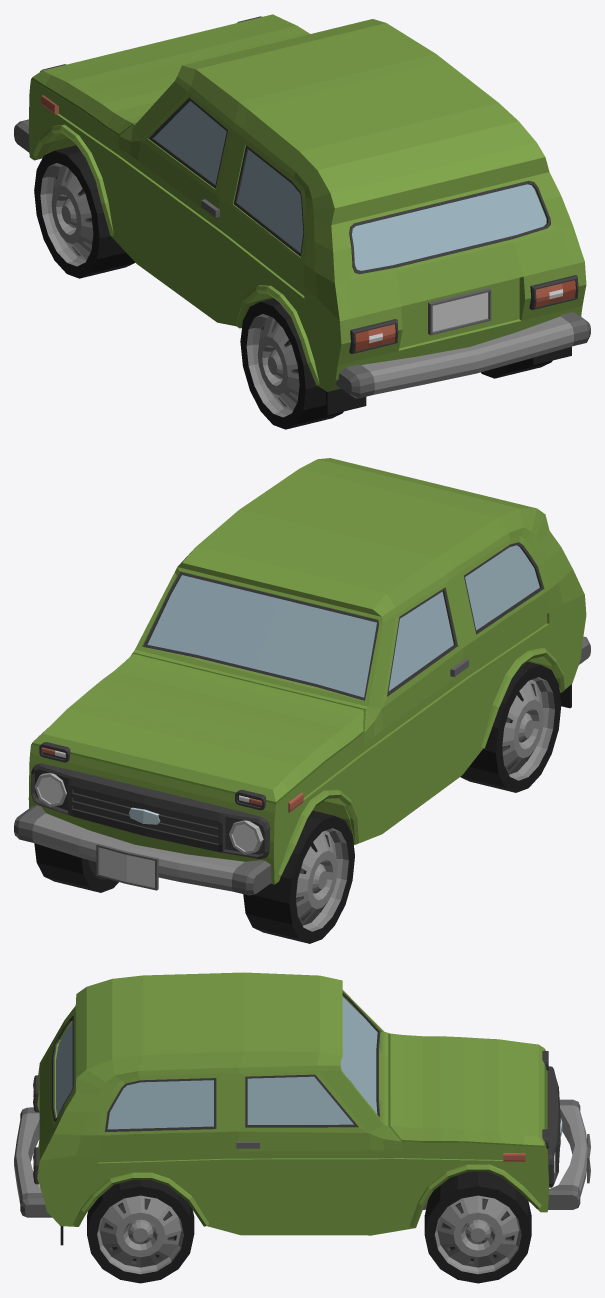
3 renders of one model, top to bottom at view 1: azimuth 30°, elevation 25°; view 2: azimuth 150°, elevation 25°; view 3: azimuth 270°, elevation 25°, orthographic. The views are drawn at different scales.
Parts seen in each view (by area): view 1: unclassified, wheel_rear_left, wheel_front_left, rear_bumper, fender_front_left, wheel_rear_right; view 2: unclassified, front_bumper, wheel_front_left, wheel_rear_left, wheel_front_right, fender_front_left; view 3: unclassified, wheel_rear_right, wheel_front_right, front_bumper, rear_bumper, fender_front_right.
Boxes of the visible parts, left/top/right/bottom form: unclassified: left=28, top=14, right=586, bottom=415; wheel_rear_left: left=236, top=285, right=343, bottom=429; wheel_front_left: left=34, top=145, right=135, bottom=278; rear_bumper: left=336, top=312, right=590, bottom=398; fender_front_left: left=33, top=64, right=113, bottom=235; wheel_rear_right: left=481, top=358, right=552, bottom=378; unclassified: left=28, top=458, right=586, bottom=890; front_bumper: left=14, top=763, right=271, bottom=895; wheel_front_left: left=243, top=810, right=354, bottom=943; wheel_rear_left: left=460, top=647, right=564, bottom=792; wheel_front_right: left=34, top=843, right=118, bottom=892; fender_front_left: left=235, top=789, right=358, bottom=875; unclassified: left=33, top=972, right=590, bottom=1245; wheel_rear_right: left=73, top=1172, right=208, bottom=1283; wheel_front_right: left=423, top=1171, right=531, bottom=1283; front_bumper: left=547, top=1066, right=587, bottom=1209; rear_bumper: left=14, top=1107, right=51, bottom=1217; fender_front_right: left=410, top=1129, right=548, bottom=1227.
Bounding box in the file's own units: 1.11 × 1.11 × 2.64.
1 material, 1 textured.
